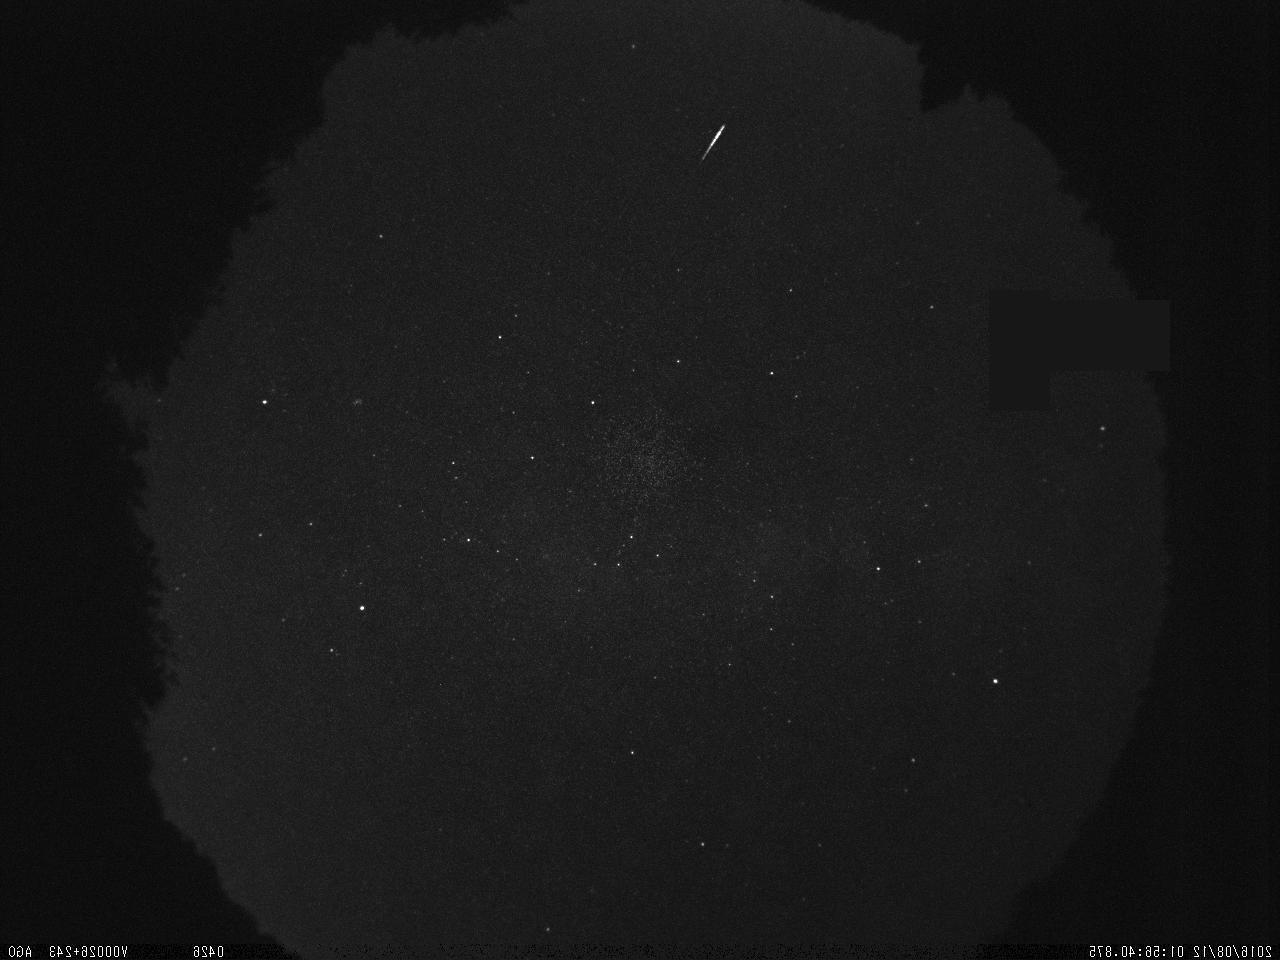meteor: (655, 102, 750, 178)
